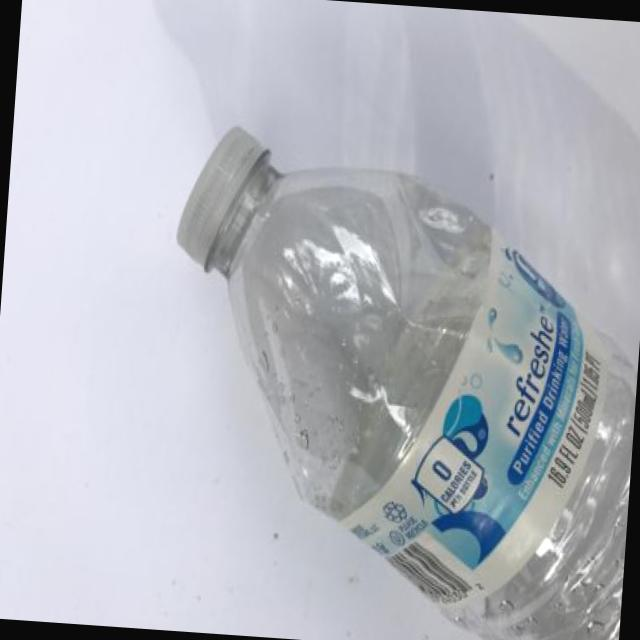Recycle: (148, 118, 640, 640)
